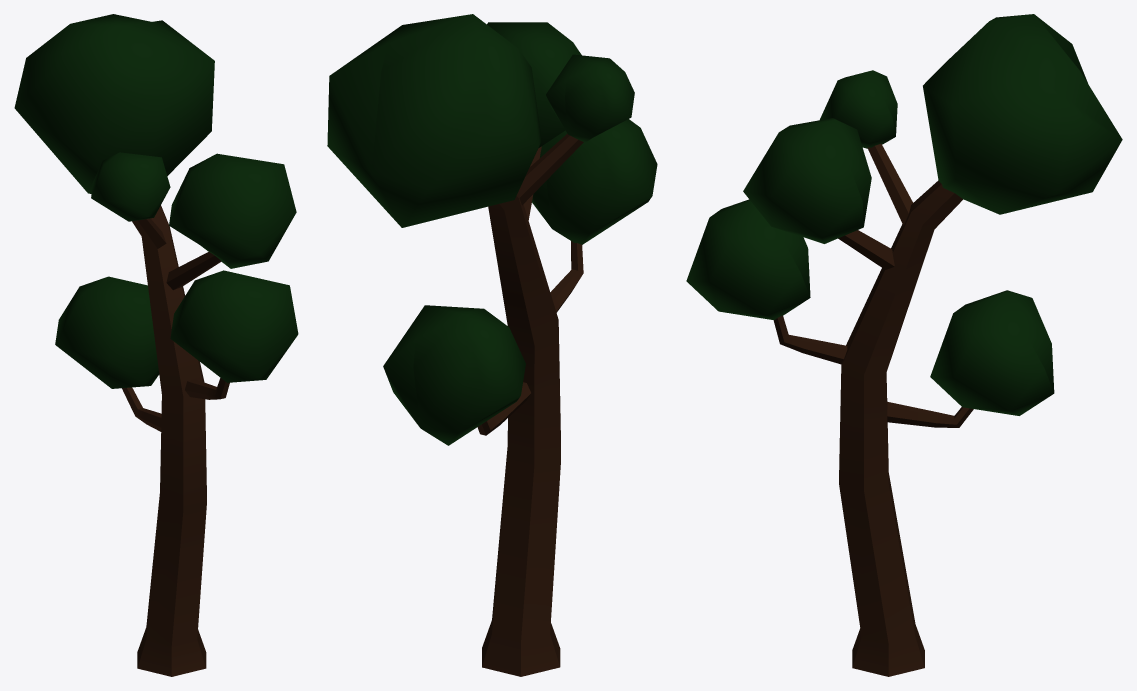
Rendered from Baum_2.fbx.
3 renders of one model, left to right at view 1: azimuth 30°, elevation 25°; view 2: azimuth 150°, elevation 25°; view 3: azimuth 270°, elevation 25°, orthographic. The views are drawn at different scales.
Parts seen in each view (by area): view 1: Box002, Cylinder001, Box005, Box003, Box006, Box004, Cylinder002, Cylinder005, Cylinder006, Cylinder004; view 2: Box002, Cylinder001, Box006, Box005, Box004, Box003, Cylinder004, Cylinder005, Cylinder006; view 3: Box002, Cylinder001, Box003, Box006, Box005, Box004, Cylinder006, Cylinder004, Cylinder005, Cylinder002.
Boxes of the visible parts, x1=… form: Box002: x1=14, y1=14, x2=214, y2=193; Cylinder001: x1=137, y1=205, x2=206, y2=676; Box005: x1=170, y1=270, x2=298, y2=382; Box003: x1=169, y1=153, x2=296, y2=268; Box006: x1=55, y1=276, x2=159, y2=388; Box004: x1=91, y1=152, x2=170, y2=221; Cylinder002: x1=166, y1=252, x2=221, y2=290; Cylinder005: x1=185, y1=378, x2=229, y2=399; Cylinder006: x1=122, y1=387, x2=161, y2=431; Cylinder004: x1=132, y1=218, x2=166, y2=248; Box002: x1=327, y1=14, x2=541, y2=227; Cylinder001: x1=482, y1=192, x2=560, y2=676; Box006: x1=383, y1=305, x2=525, y2=445; Box005: x1=532, y1=119, x2=657, y2=244; Box004: x1=546, y1=54, x2=634, y2=142; Box003: x1=487, y1=22, x2=581, y2=148; Cylinder004: x1=518, y1=133, x2=583, y2=205; Cylinder005: x1=550, y1=241, x2=583, y2=312; Cylinder006: x1=477, y1=382, x2=531, y2=435; Box002: x1=923, y1=14, x2=1122, y2=214; Cylinder001: x1=839, y1=180, x2=962, y2=676; Box003: x1=743, y1=118, x2=871, y2=243; Box006: x1=930, y1=290, x2=1054, y2=415; Box005: x1=686, y1=199, x2=810, y2=319; Box004: x1=820, y1=70, x2=897, y2=148; Cylinder006: x1=887, y1=401, x2=973, y2=427; Cylinder004: x1=867, y1=143, x2=912, y2=225; Cylinder005: x1=773, y1=315, x2=847, y2=364; Cylinder002: x1=838, y1=230, x2=894, y2=269.
Bounding box in the file's own units: 104 × 334 × 208.
